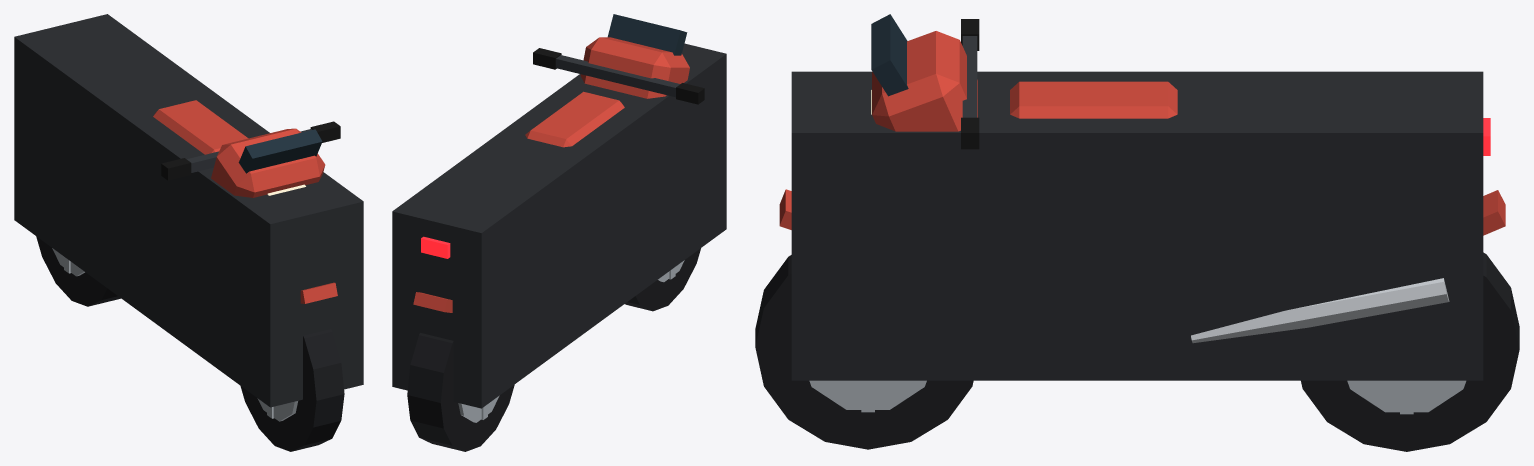
The model's file is VEH_Motorbike.fbx.
3 views of the same model, side by side, from view 1: azimuth 30°, elevation 25°; view 2: azimuth 150°, elevation 25°; view 3: azimuth 270°, elevation 25° (orthographic). The views are drawn at different scales.
Visible parts, largest first — view 1: VEH_Motorbike__COL_Body, VEH_Motorbike__BODY, VEH_Motorbike__WHEEL_F, VEH_Motorbike__WHEEL_R, VEH_Motorbike__STEER; view 2: VEH_Motorbike__COL_Body, VEH_Motorbike__BODY, VEH_Motorbike__WHEEL_R, VEH_Motorbike__STEER, VEH_Motorbike__WHEEL_F, VEH_Motorbike__LIGHTS; view 3: VEH_Motorbike__COL_Body, VEH_Motorbike__BODY, VEH_Motorbike__WHEEL_R, VEH_Motorbike__WHEEL_F, VEH_Motorbike__STEER.
Part boxes in pixels (x1,y1,x2,y2): VEH_Motorbike__COL_Body: [14, 14, 363, 407]; VEH_Motorbike__BODY: [153, 100, 337, 303]; VEH_Motorbike__WHEEL_F: [240, 329, 344, 451]; VEH_Motorbike__WHEEL_R: [36, 236, 120, 306]; VEH_Motorbike__STEER: [161, 121, 340, 180]; VEH_Motorbike__COL_Body: [392, 43, 726, 408]; VEH_Motorbike__BODY: [413, 14, 689, 312]; VEH_Motorbike__WHEEL_R: [407, 333, 514, 451]; VEH_Motorbike__STEER: [533, 48, 704, 104]; VEH_Motorbike__WHEEL_F: [625, 248, 700, 311]; VEH_Motorbike__LIGHTS: [421, 236, 450, 258]; VEH_Motorbike__COL_Body: [791, 71, 1483, 380]; VEH_Motorbike__BODY: [779, 14, 1505, 343]; VEH_Motorbike__WHEEL_R: [1301, 252, 1519, 451]; VEH_Motorbike__WHEEL_F: [755, 255, 973, 449]; VEH_Motorbike__STEER: [961, 19, 979, 149].
Bounding box in the file's own units: 0.74 × 1.22 × 2.1.
